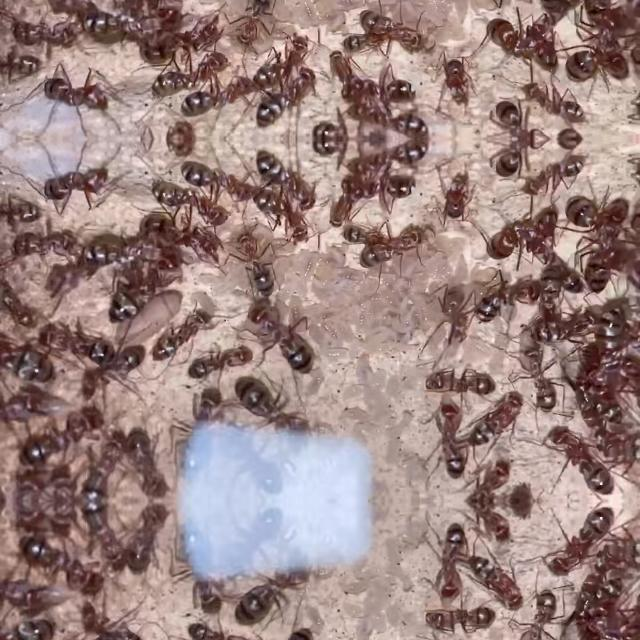Cataglyphis: (557, 191, 637, 285), (412, 278, 492, 364), (534, 504, 626, 578), (236, 301, 330, 373), (227, 374, 326, 442), (557, 0, 637, 84), (563, 192, 639, 280), (534, 424, 626, 496), (227, 560, 326, 626), (96, 242, 172, 326), (64, 334, 142, 414), (563, 0, 639, 82), (70, 423, 150, 499), (70, 502, 150, 578), (568, 390, 640, 472), (568, 529, 640, 611), (339, 140, 437, 200), (339, 76, 437, 136), (242, 146, 320, 220), (242, 56, 320, 130), (414, 398, 482, 482), (414, 520, 482, 602), (15, 404, 107, 464), (15, 537, 107, 597), (116, 420, 184, 500), (564, 314, 636, 388), (116, 502, 184, 580), (172, 158, 268, 210), (172, 66, 268, 118), (153, 172, 239, 230), (153, 46, 239, 104), (349, 222, 437, 274), (349, 2, 437, 54), (477, 15, 563, 66), (464, 272, 548, 324), (222, 226, 286, 294), (31, 160, 123, 207), (62, 586, 142, 640), (477, 210, 563, 260), (511, 342, 572, 412), (146, 306, 222, 362), (31, 70, 123, 116), (516, 153, 598, 204), (516, 72, 598, 122), (466, 389, 534, 449), (466, 552, 534, 612), (0, 324, 60, 386), (266, 182, 324, 246), (266, 30, 324, 94), (478, 138, 564, 178), (478, 98, 564, 138), (411, 361, 501, 399), (411, 602, 501, 640), (426, 166, 484, 224), (426, 52, 484, 110), (178, 341, 260, 381), (510, 588, 570, 640), (221, 0, 284, 48), (450, 460, 524, 500), (450, 501, 524, 541), (5, 224, 86, 258), (5, 18, 86, 52), (423, 399, 473, 451), (423, 550, 473, 602), (0, 269, 40, 329), (95, 0, 170, 32), (0, 387, 66, 419), (0, 582, 66, 614), (43, 318, 93, 360), (564, 612, 634, 640), (0, 192, 46, 228), (0, 48, 46, 84), (178, 620, 260, 640), (0, 614, 60, 640), (304, 138, 390, 156), (304, 120, 390, 138), (134, 138, 214, 156), (134, 120, 214, 138)
